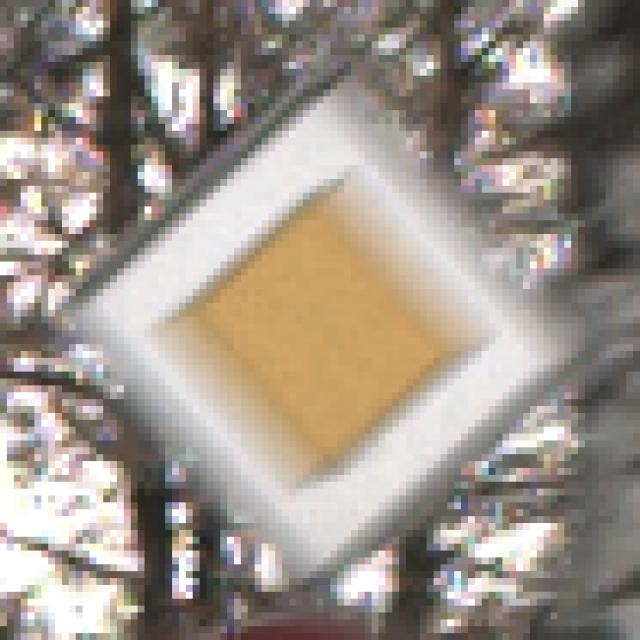Main Road: (63, 56, 586, 586)
